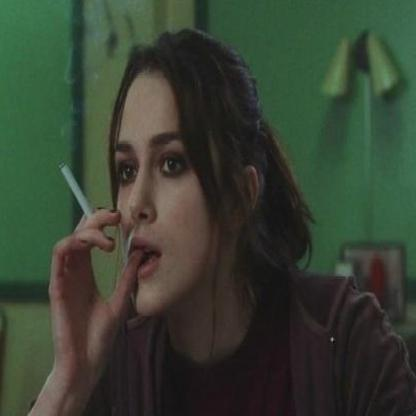cigarette: (58, 162, 94, 223)
person: (88, 26, 352, 412)
